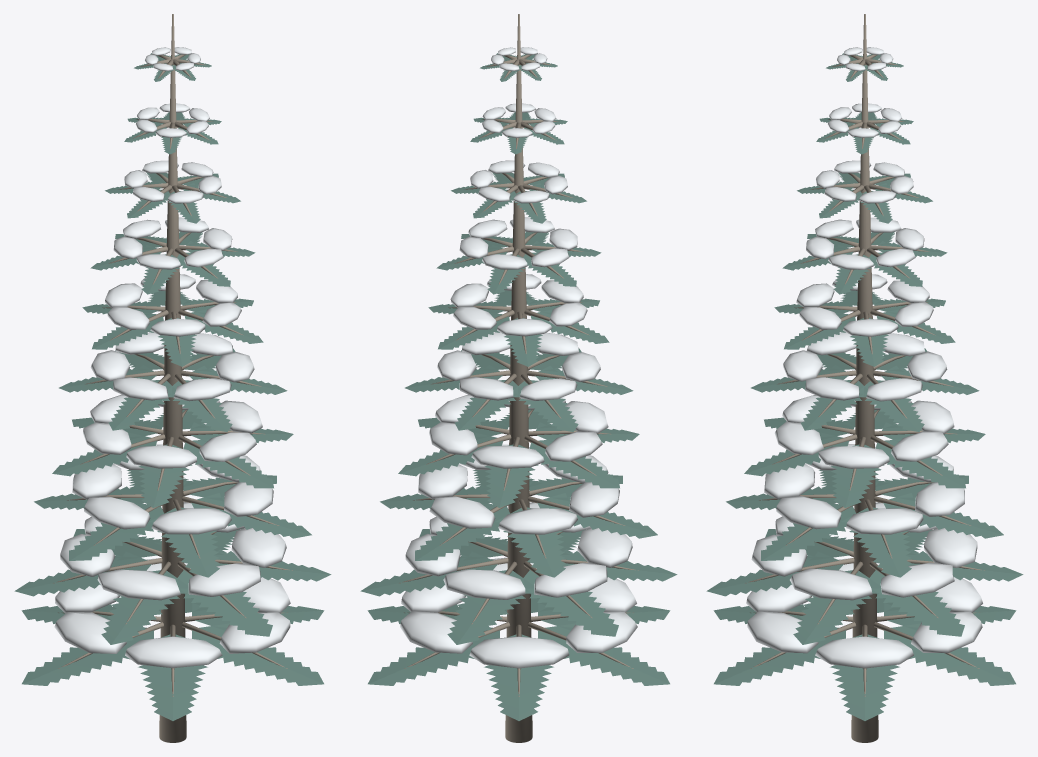
File: alpine-and-arctic-biomes-snow-laden-spruce-c5a1a02a__20933.glb
3 renders of one model, left to right at view 1: azimuth 30°, elevation 25°; view 2: azimuth 150°, elevation 25°; view 3: azimuth 270°, elevation 25°, orthographic.
Visible parts, largest first — view 1: snow-laden-spruce; view 2: snow-laden-spruce; view 3: snow-laden-spruce.
Boxes of the visible parts, <box> form: snow-laden-spruce: <box>14,14,331,742</box>; snow-laden-spruce: <box>360,14,677,742</box>; snow-laden-spruce: <box>706,14,1023,742</box>.
Size of the model in its own units: 5.71 by 13.02 by 5.18.
